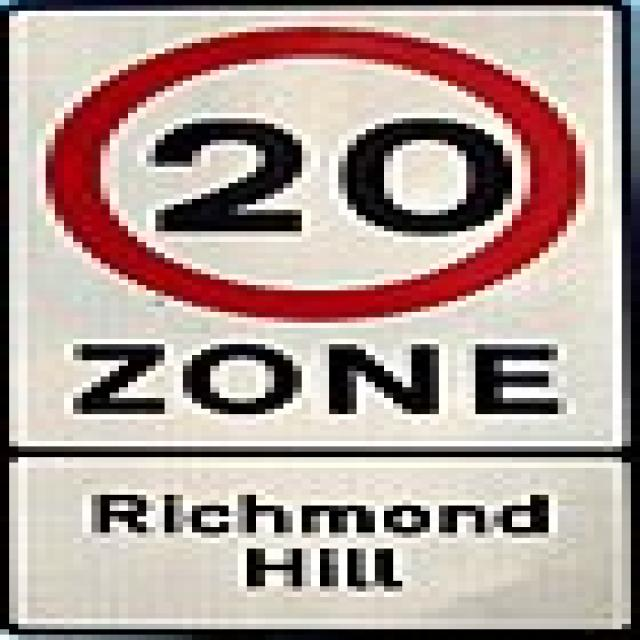Speed Limit -20-: (140, 114, 517, 241)
